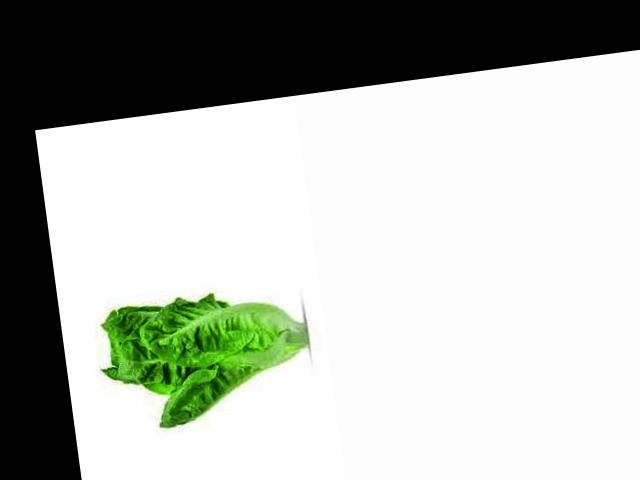lettuce: (85, 262, 257, 407)
